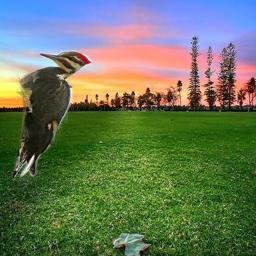Woodpecker: (11, 50, 92, 180)
